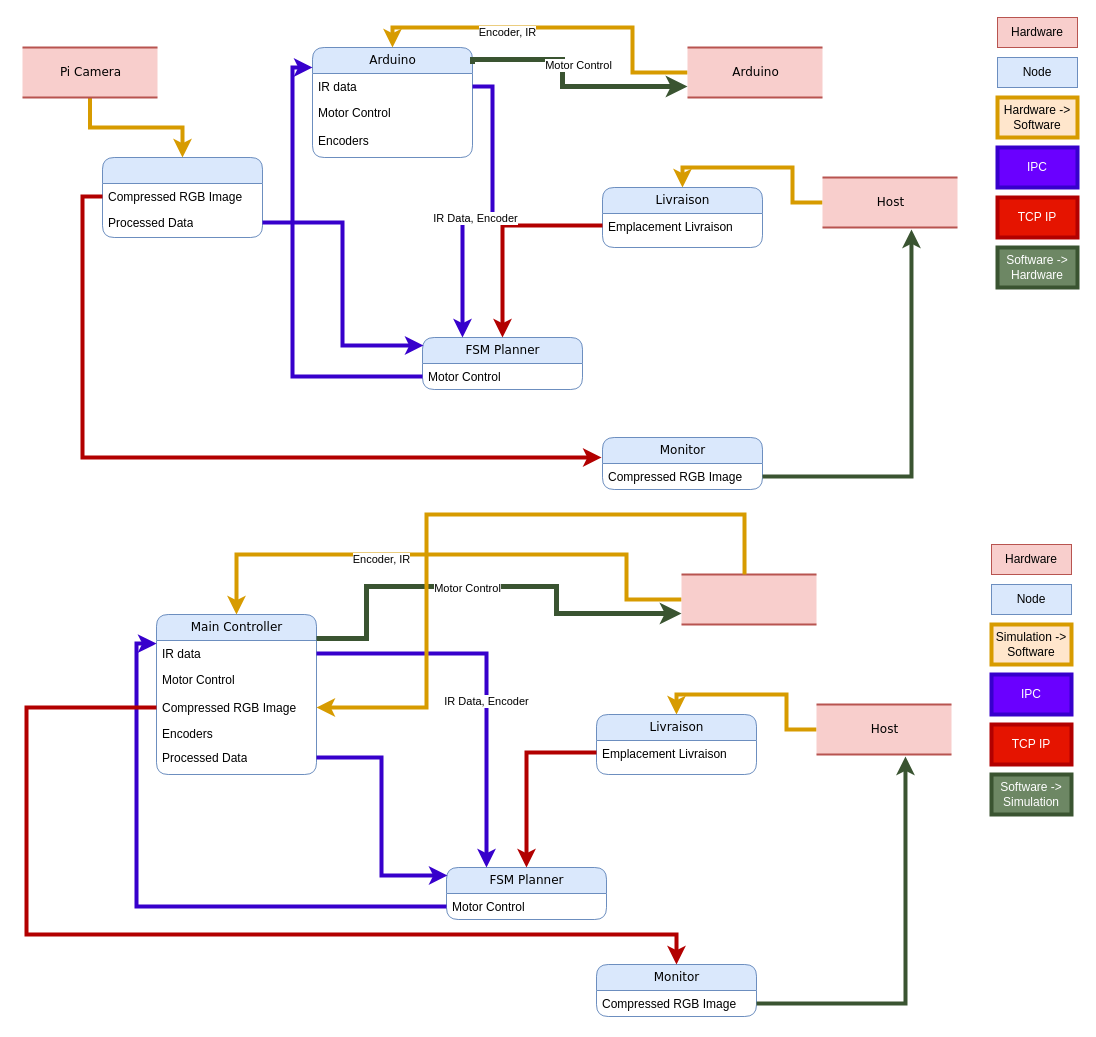
Image size: 1096x1037. Some labels were removed from this diagram. The shapes that lost their labels are listed below. From the top down, each one's box as (x1, y1, x2, y2) in pixels, then its label:
(102, 156, 262, 238): Camera
(680, 573, 817, 625): Webots
